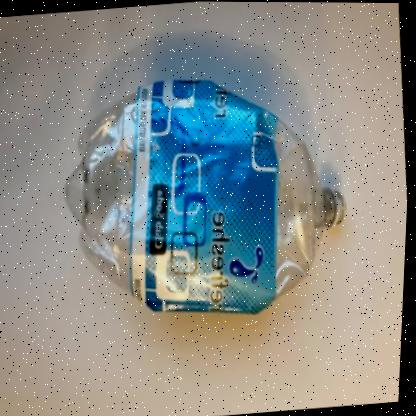Plastic: (67, 77, 347, 313)
